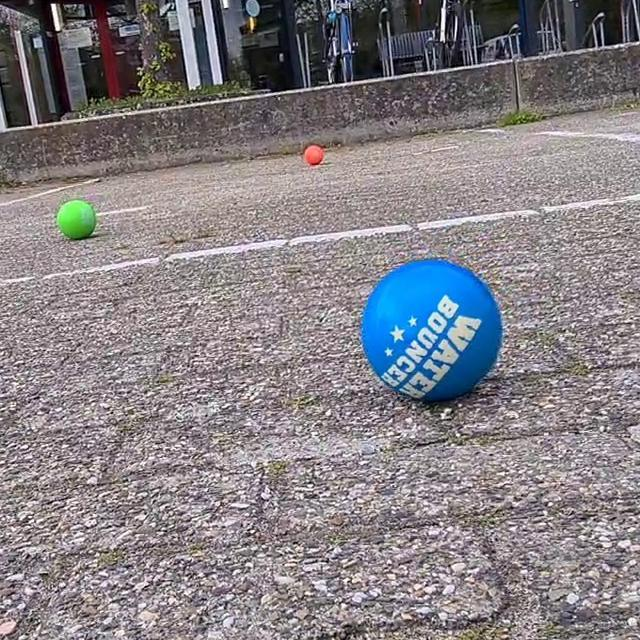ball: (54, 198, 100, 244), (302, 144, 324, 165)
